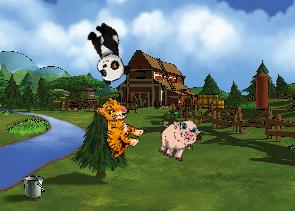panda: (81, 19, 133, 86)
pig: (153, 113, 203, 165)
tiger: (81, 93, 151, 162)
